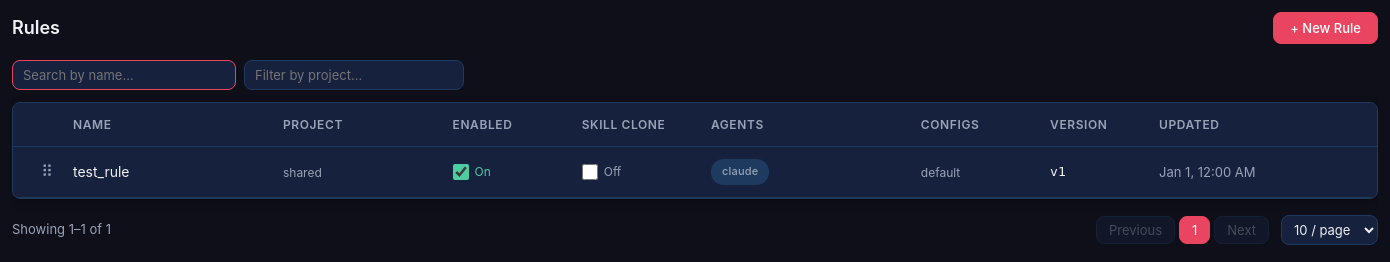
Scenario: HarnessIndexPage › shows a retryable read error without stale rows or row mutations and preserves filter focus
Expected: the text "test_rule" is shown, [73,163,130,180]
Type "new criteria" into the field with placeholder "Search by name..." at (124, 75), box [12,60,236,90]
Wait 300 ms
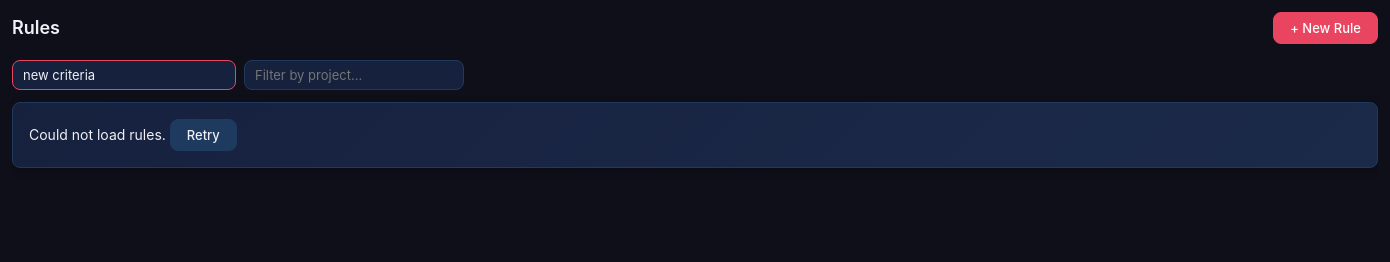
Expected: the message shows "Could not load rules.", [12,102,1378,168]
Expected: the button "test_rule" is gone
Expected: the element with test id "harness-drop-zone" is gone
Click the button "Retry" at (203, 135), box [170,119,237,151]
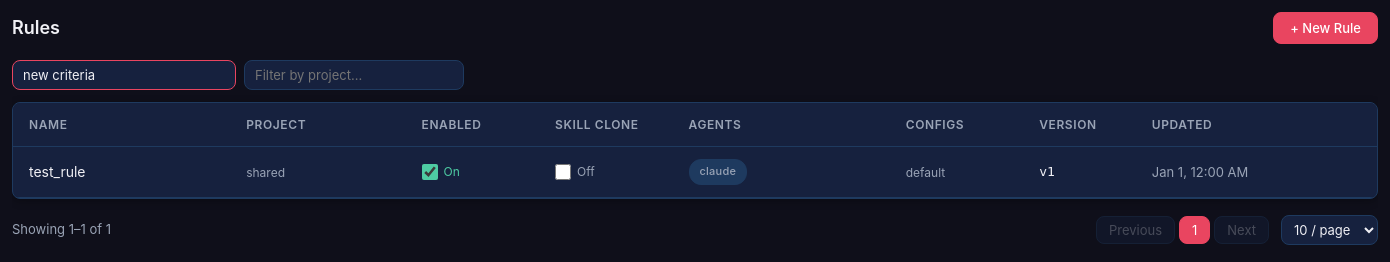
Expected: the text "test_rule" is shown, [29,163,86,180]
